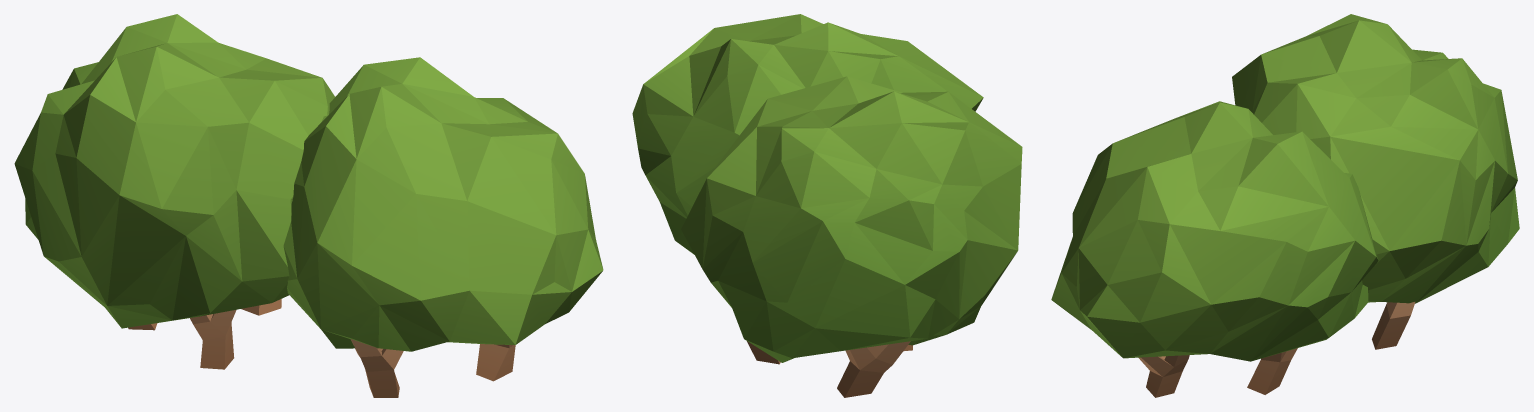
File: grassland_bush_2.fbx
3 renders of one model, left to right at view 1: azimuth 30°, elevation 25°; view 2: azimuth 150°, elevation 25°; view 3: azimuth 270°, elevation 25°, orthographic. The views are drawn at different scales.
Visible parts, largest first — view 1: Bush_group_average; view 2: Bush_group_average; view 3: Bush_group_average.
Part boxes in pixels (x1,y1,x2,y2): Bush_group_average: (14,14,603,397); Bush_group_average: (632,14,1022,397); Bush_group_average: (1051,14,1519,397).
Size of the model in its own units: 506 by 332 by 520.
Materials: 1 (1 with a texture image).
